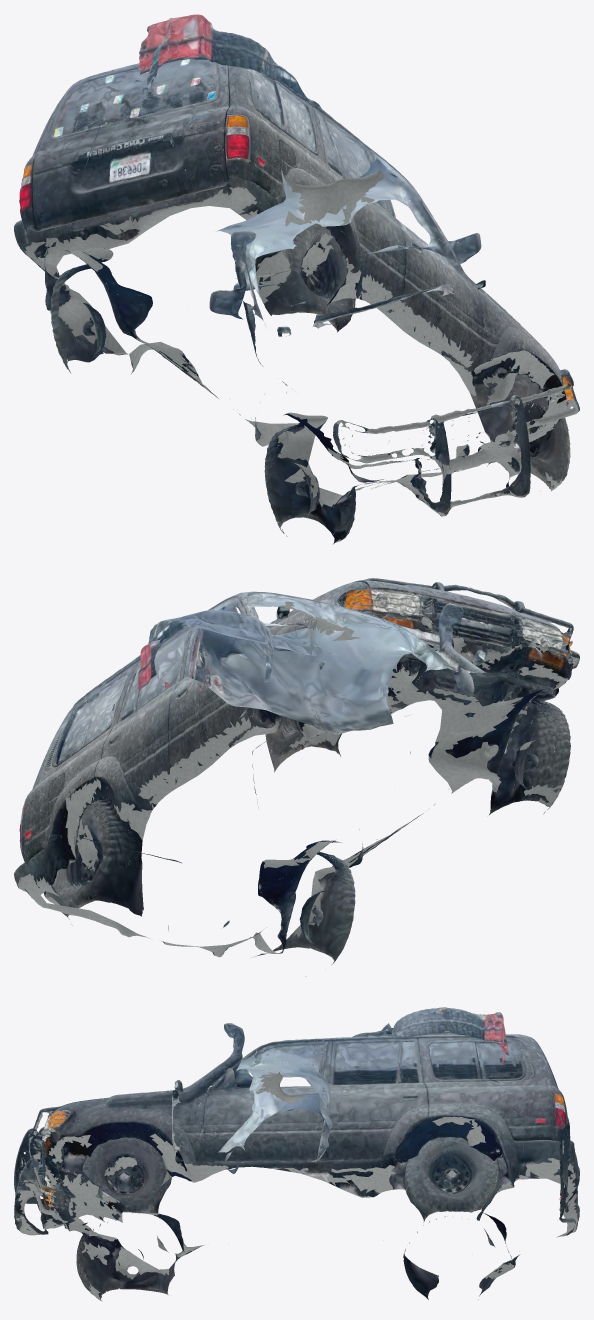
Rendered from car_landcruiser.glb.
The picture shows the model from 3 angles, top to bottom: view 1: azimuth 30°, elevation 25°; view 2: azimuth 150°, elevation 25°; view 3: azimuth 270°, elevation 25°; orthographic projection. The views are drawn at different scales.
Visible parts, largest first — view 1: scan_1, scan_0, scan_2; view 2: scan_1, scan_0, scan_2; view 3: scan_0, scan_1, scan_2.
Boxes of the visible parts, left/top/right/bottom form: scan_1: left=14, top=14, right=579, bottom=542; scan_0: left=15, top=35, right=579, bottom=529; scan_2: left=17, top=28, right=579, bottom=544; scan_1: left=14, top=578, right=579, bottom=957; scan_0: left=19, top=578, right=566, bottom=964; scan_2: left=15, top=582, right=579, bottom=976; scan_0: left=14, top=1011, right=579, bottom=1295; scan_1: left=14, top=1007, right=579, bottom=1301; scan_2: left=15, top=1010, right=577, bottom=1299.
Bounding box in the file's own units: 1.96 × 2.19 × 4.7.
Materials: 4 (4 with a texture image).
